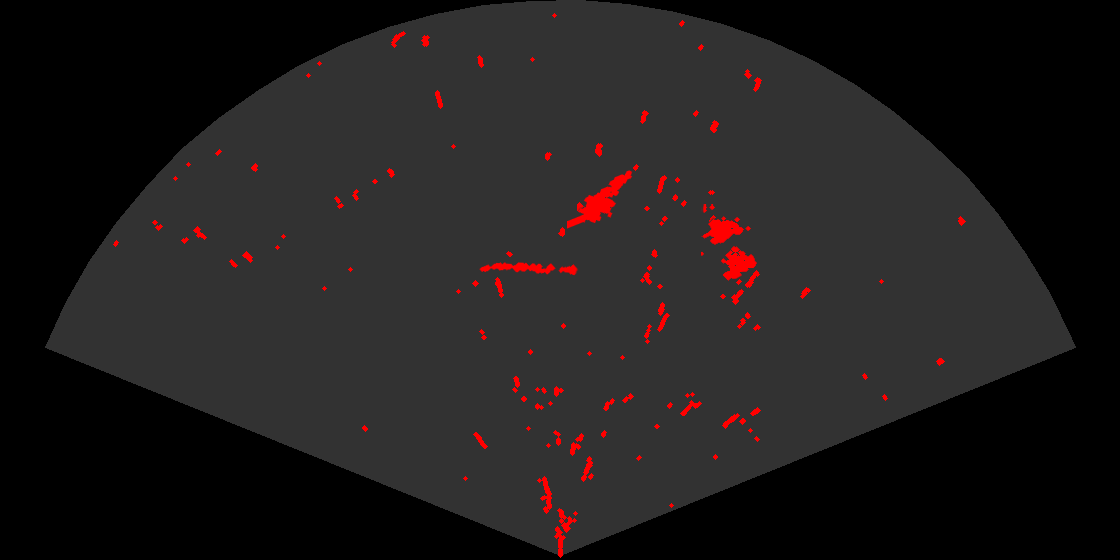cage: (701, 204, 758, 282)
chain: (478, 261, 579, 277)
frogman: (567, 169, 634, 230)
